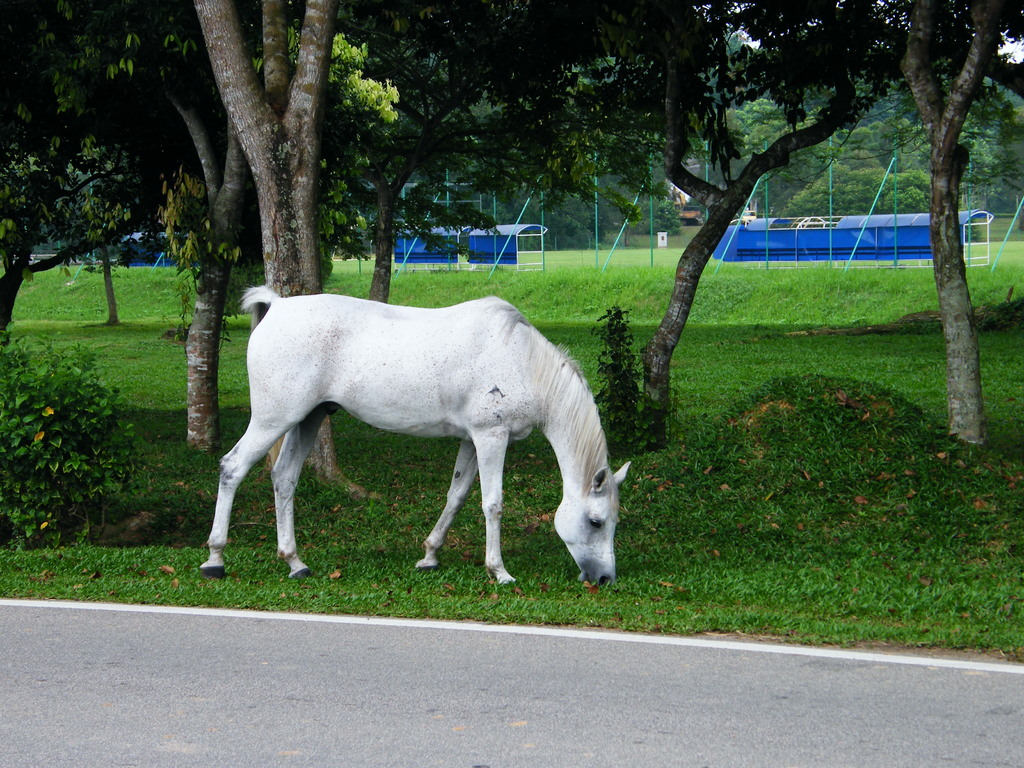horse: (196, 277, 630, 584)
